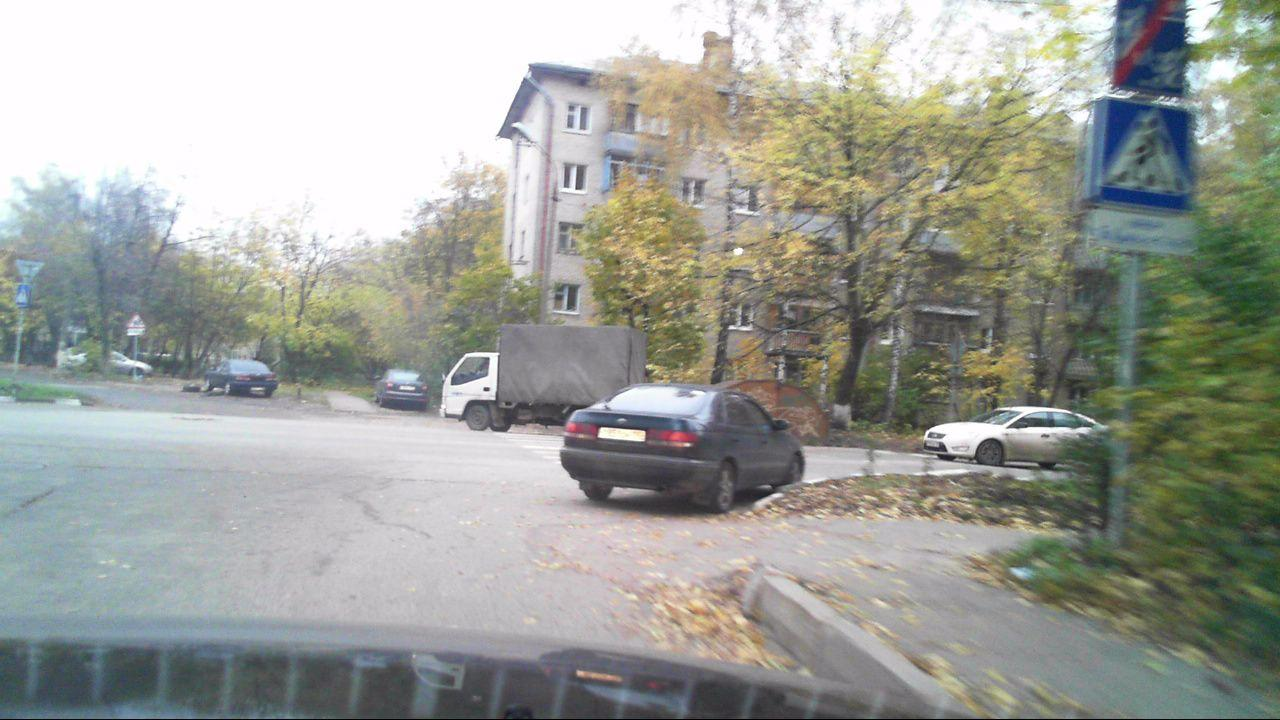1_23: (128, 312, 147, 329)
5_19_1: (1093, 99, 1195, 206)
5_19_2: (17, 285, 30, 308)
5_22: (1111, 0, 1188, 99)
8_2_1: (125, 328, 146, 338)
